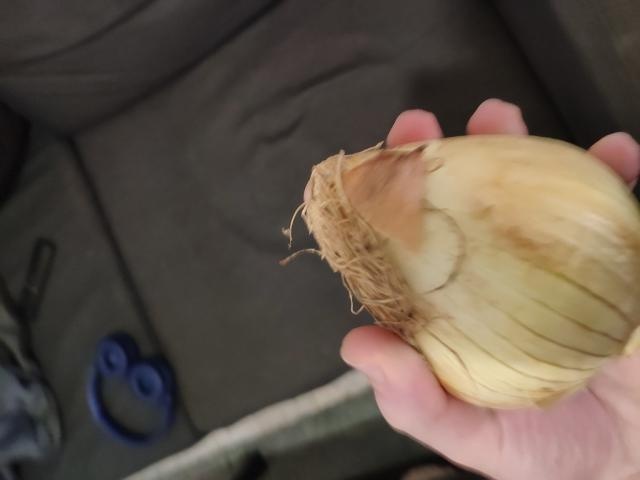onion: (294, 131, 618, 403)
